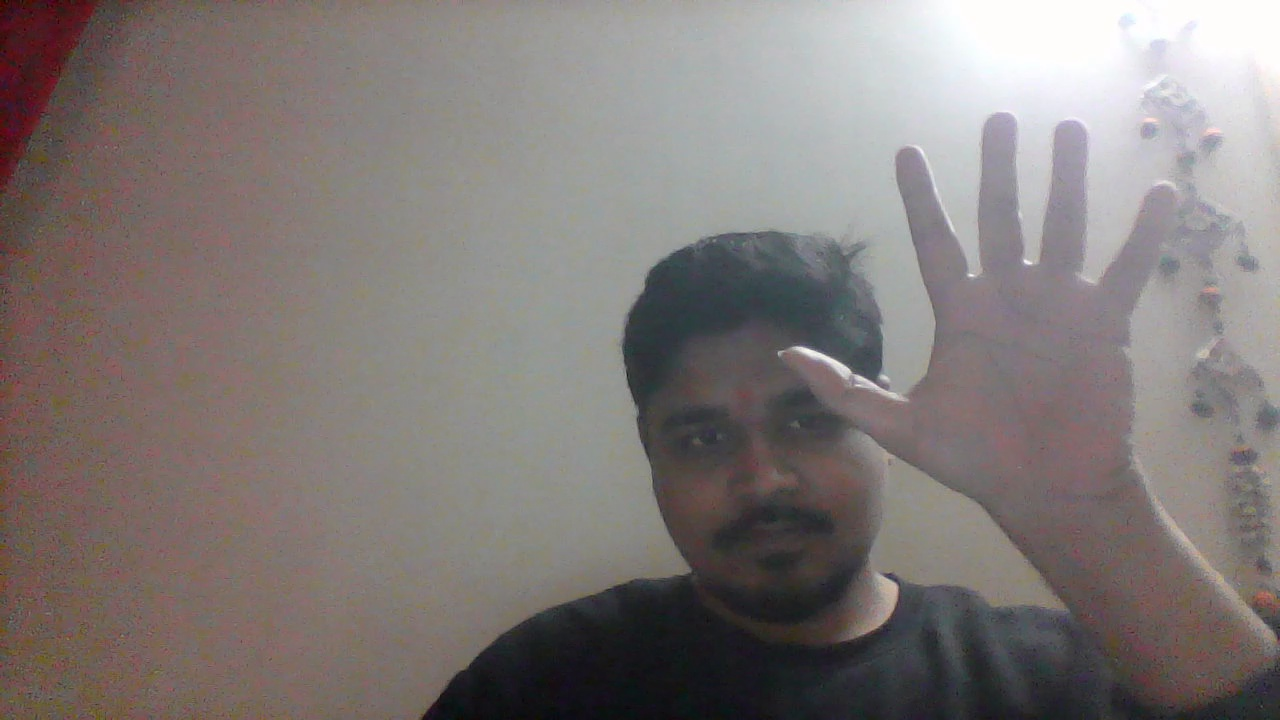Hello: (773, 104, 1199, 532)
